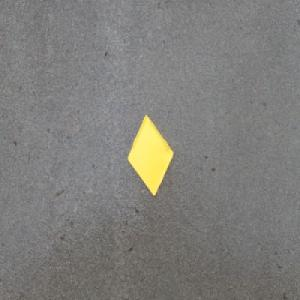PlasticPart: (126, 112, 174, 196)
